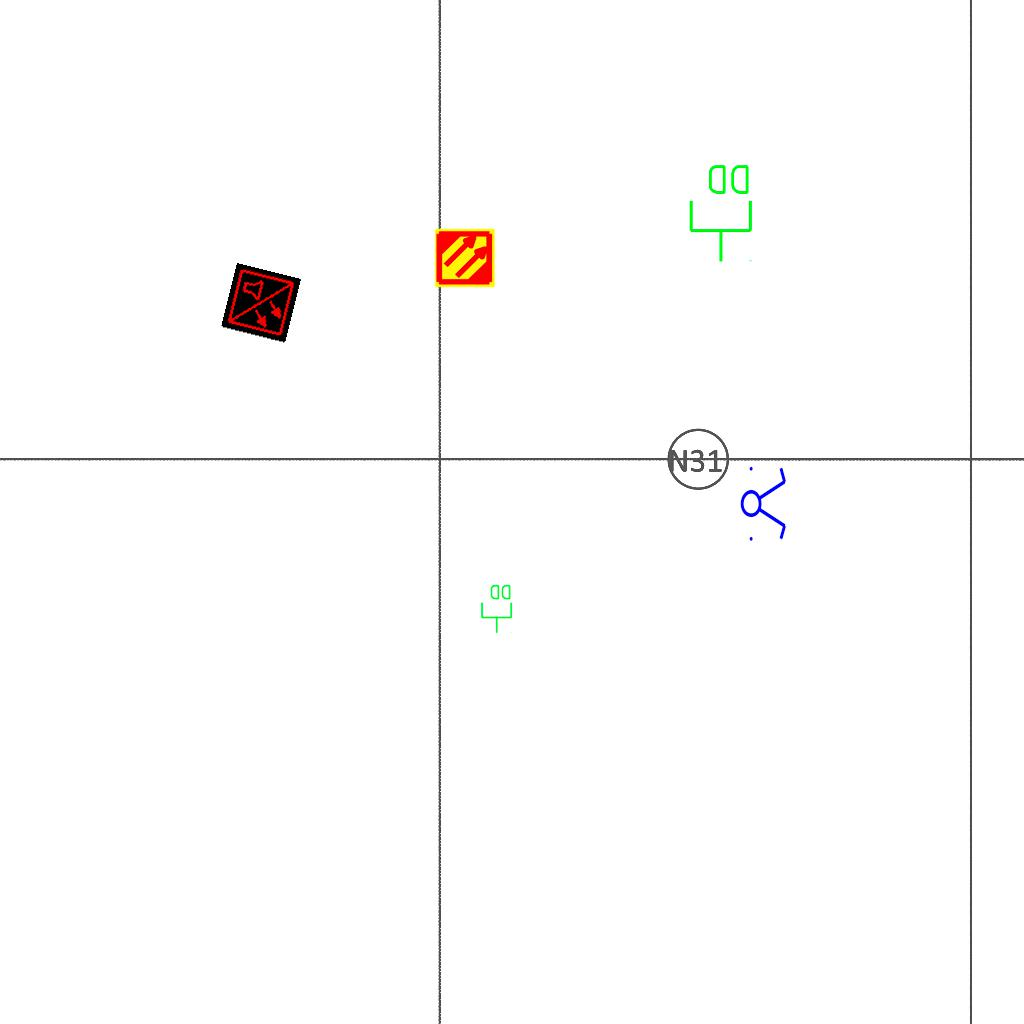ASR_Ansaugrauchmelder: (434, 227, 496, 289)
Datenanschluss_zweifach: (687, 161, 756, 264), (480, 583, 514, 634)
OKW_Multisensormelder_(Kombination_optischer_Rauch-Kahlenmonoxid_Waerme-Melder): (220, 262, 302, 344)
Serienschalter: (740, 461, 788, 545)
